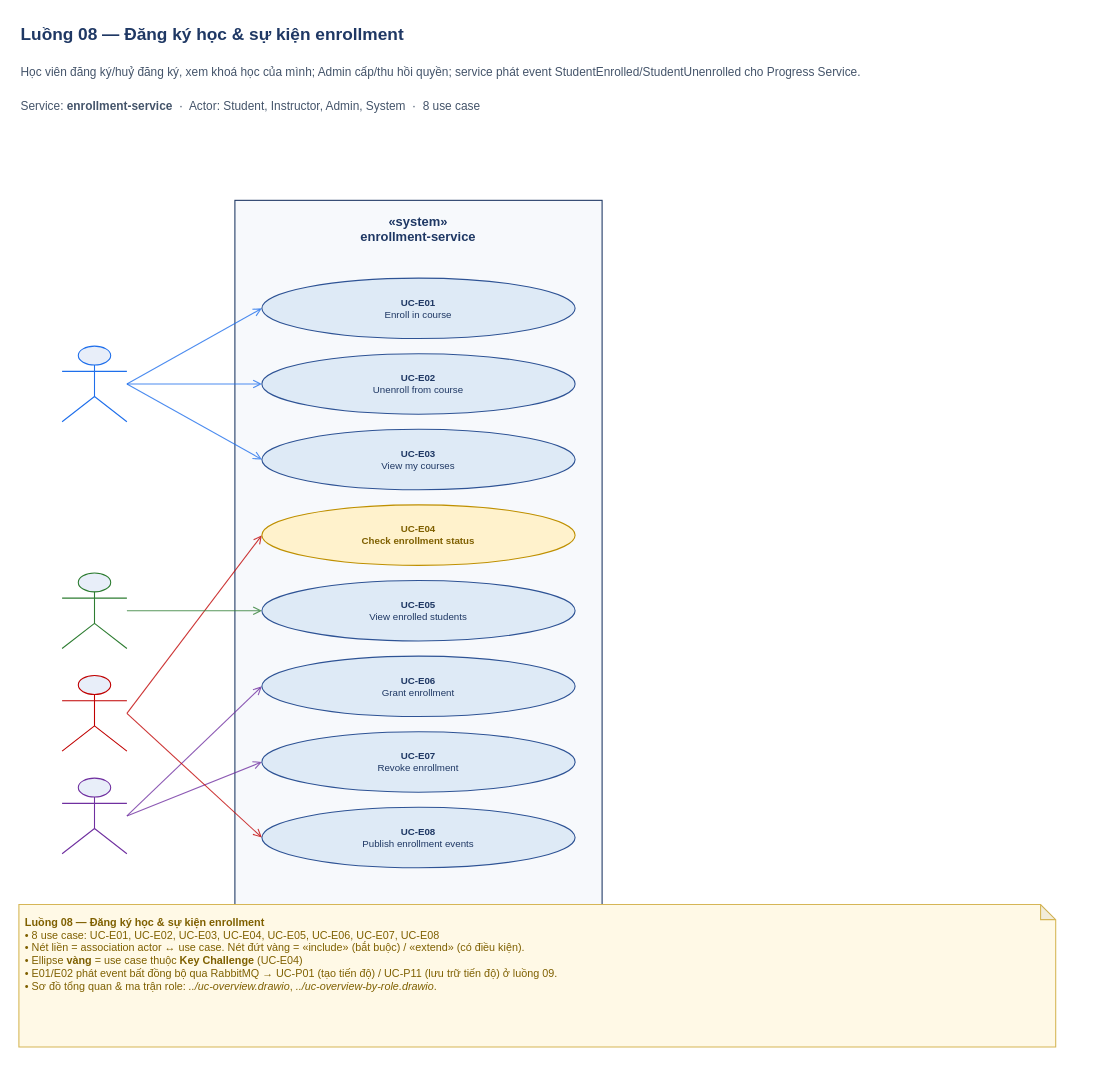
Some shapes in this 1118 by 1066 pixel diagram are drawn without their labels. Each missing label, with the centre of its shape:
Admin: the point at 94,815
Instructor: the point at 94,610
Student: the point at 94,383
System: the point at 94,712
